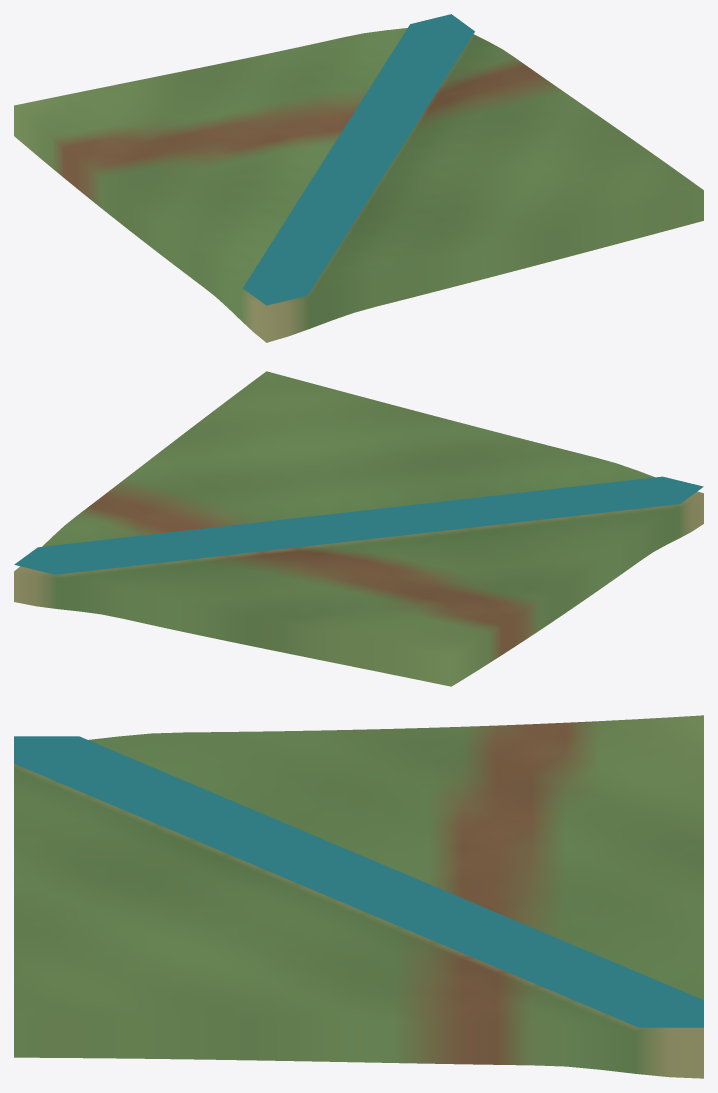
3 views of the same model, one above another, from view 1: azimuth 30°, elevation 25°; view 2: azimuth 150°, elevation 25°; view 3: azimuth 270°, elevation 25° (orthographic). The views are drawn at different scales.
Parts seen in each view (by area): view 1: terrain, scenery; view 2: terrain, scenery; view 3: terrain, scenery.
Boxes of the visible parts, x1,y1,x2,y2 form: terrain: (14,28,703,342); scenery: (243,14,474,305); terrain: (14,371,703,686); scenery: (14,476,703,574); terrain: (14,715,703,1078); scenery: (14,736,703,1027).
Size of the model in its own units: 30 by 3.44 by 30.
